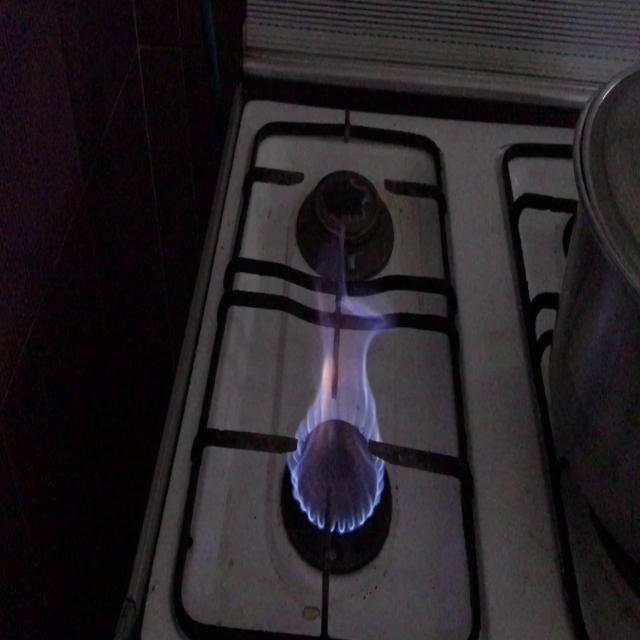Fire: (289, 292, 388, 532)
